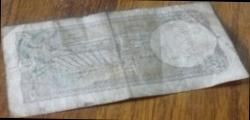5 taka: (7, 3, 214, 111)
